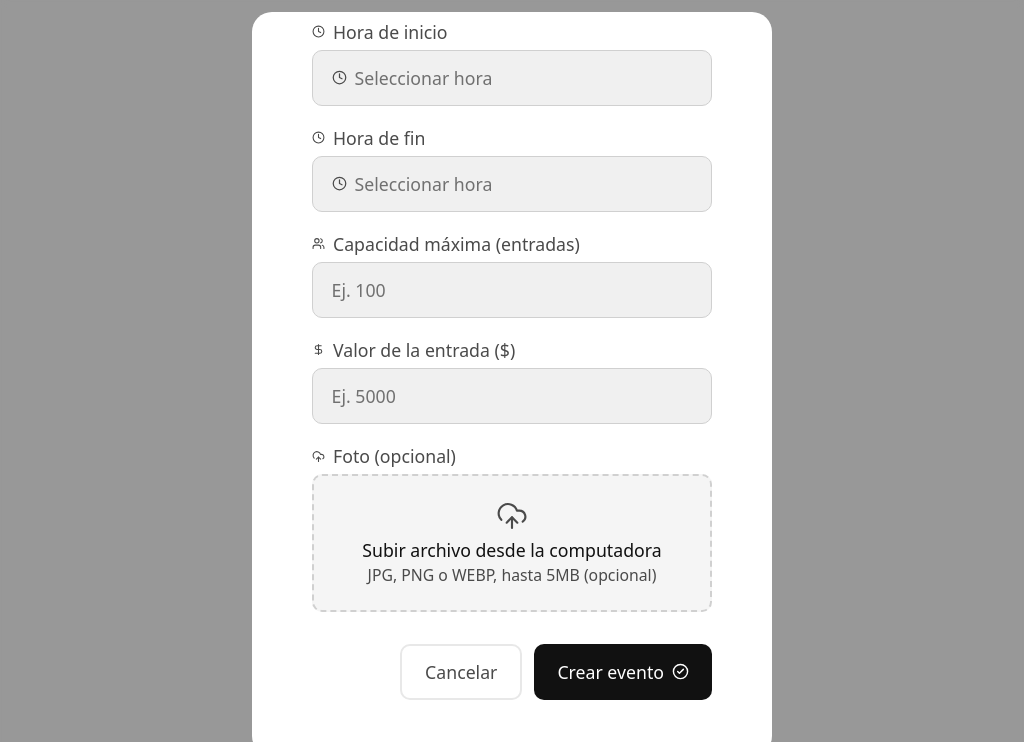
Test: CreateEventoForm › no envía si el nombre está vacío
(page scrolled)
Click the button "Crear evento".
click(623, 672)  # box [534,644,712,700]
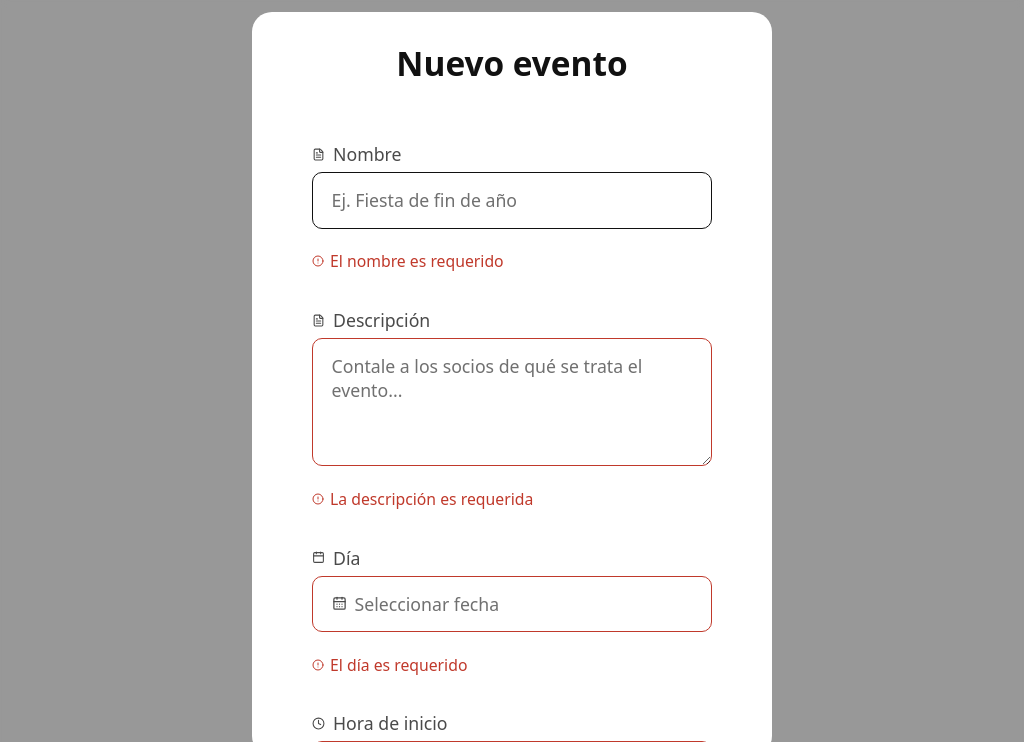
Now the text "El nombre es requerido" is shown, box [312,250,504,272]
